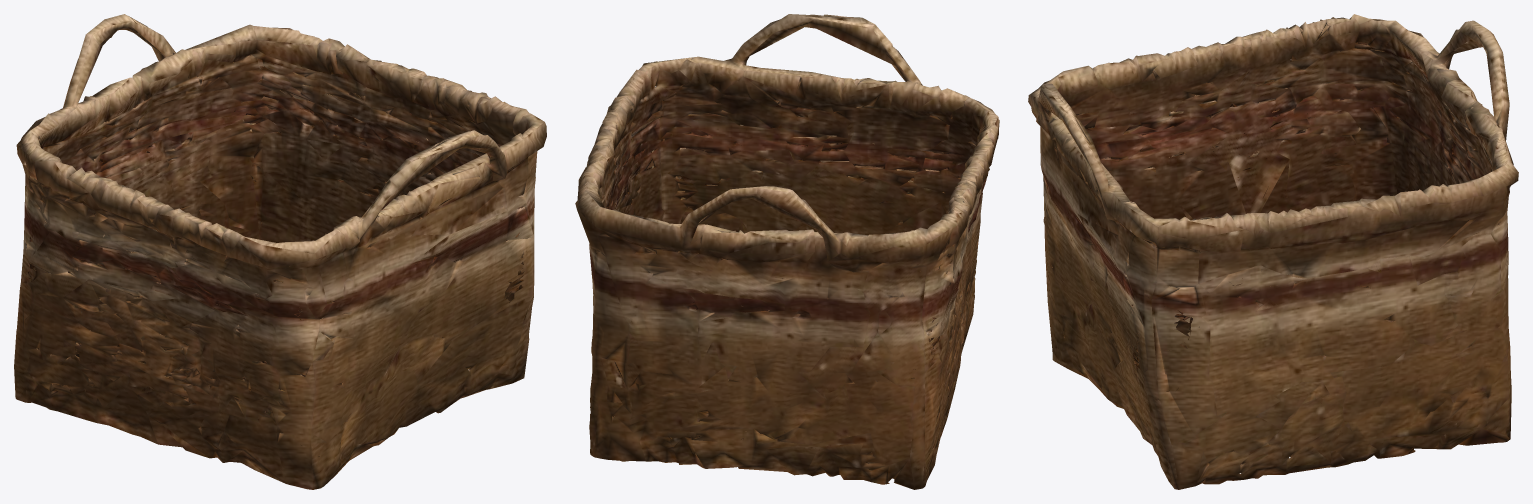
File: fm_basket_seagrass.glb
3 views of the same model, side by side, from view 1: azimuth 30°, elevation 25°; view 2: azimuth 150°, elevation 25°; view 3: azimuth 270°, elevation 25° (orthographic). The views are drawn at different scales.
Parts seen in each view (by area): view 1: world; view 2: world; view 3: world.
Boxes of the visible parts, x1,y1,x2,y2 form: world: (14, 14, 546, 489); world: (575, 14, 999, 489); world: (1028, 14, 1518, 489).
Bounding box in the file's own units: 0.3979 × 0.2863 × 0.3871.
1 material, 1 textured.
